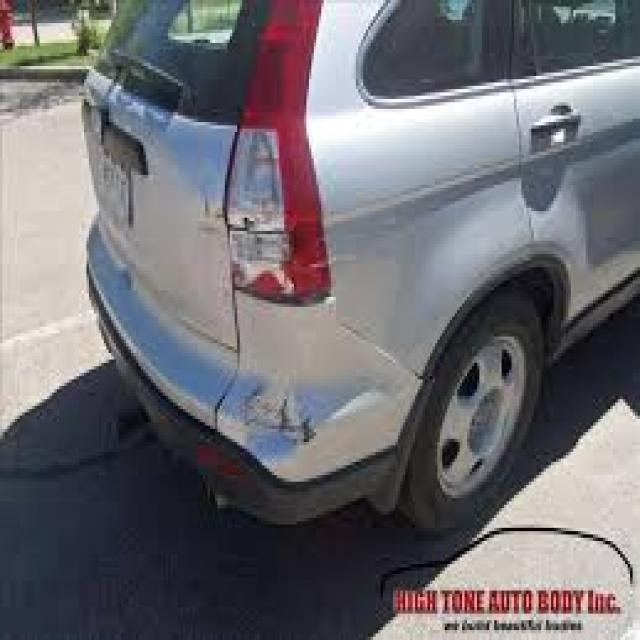minor: (239, 340, 340, 470)
